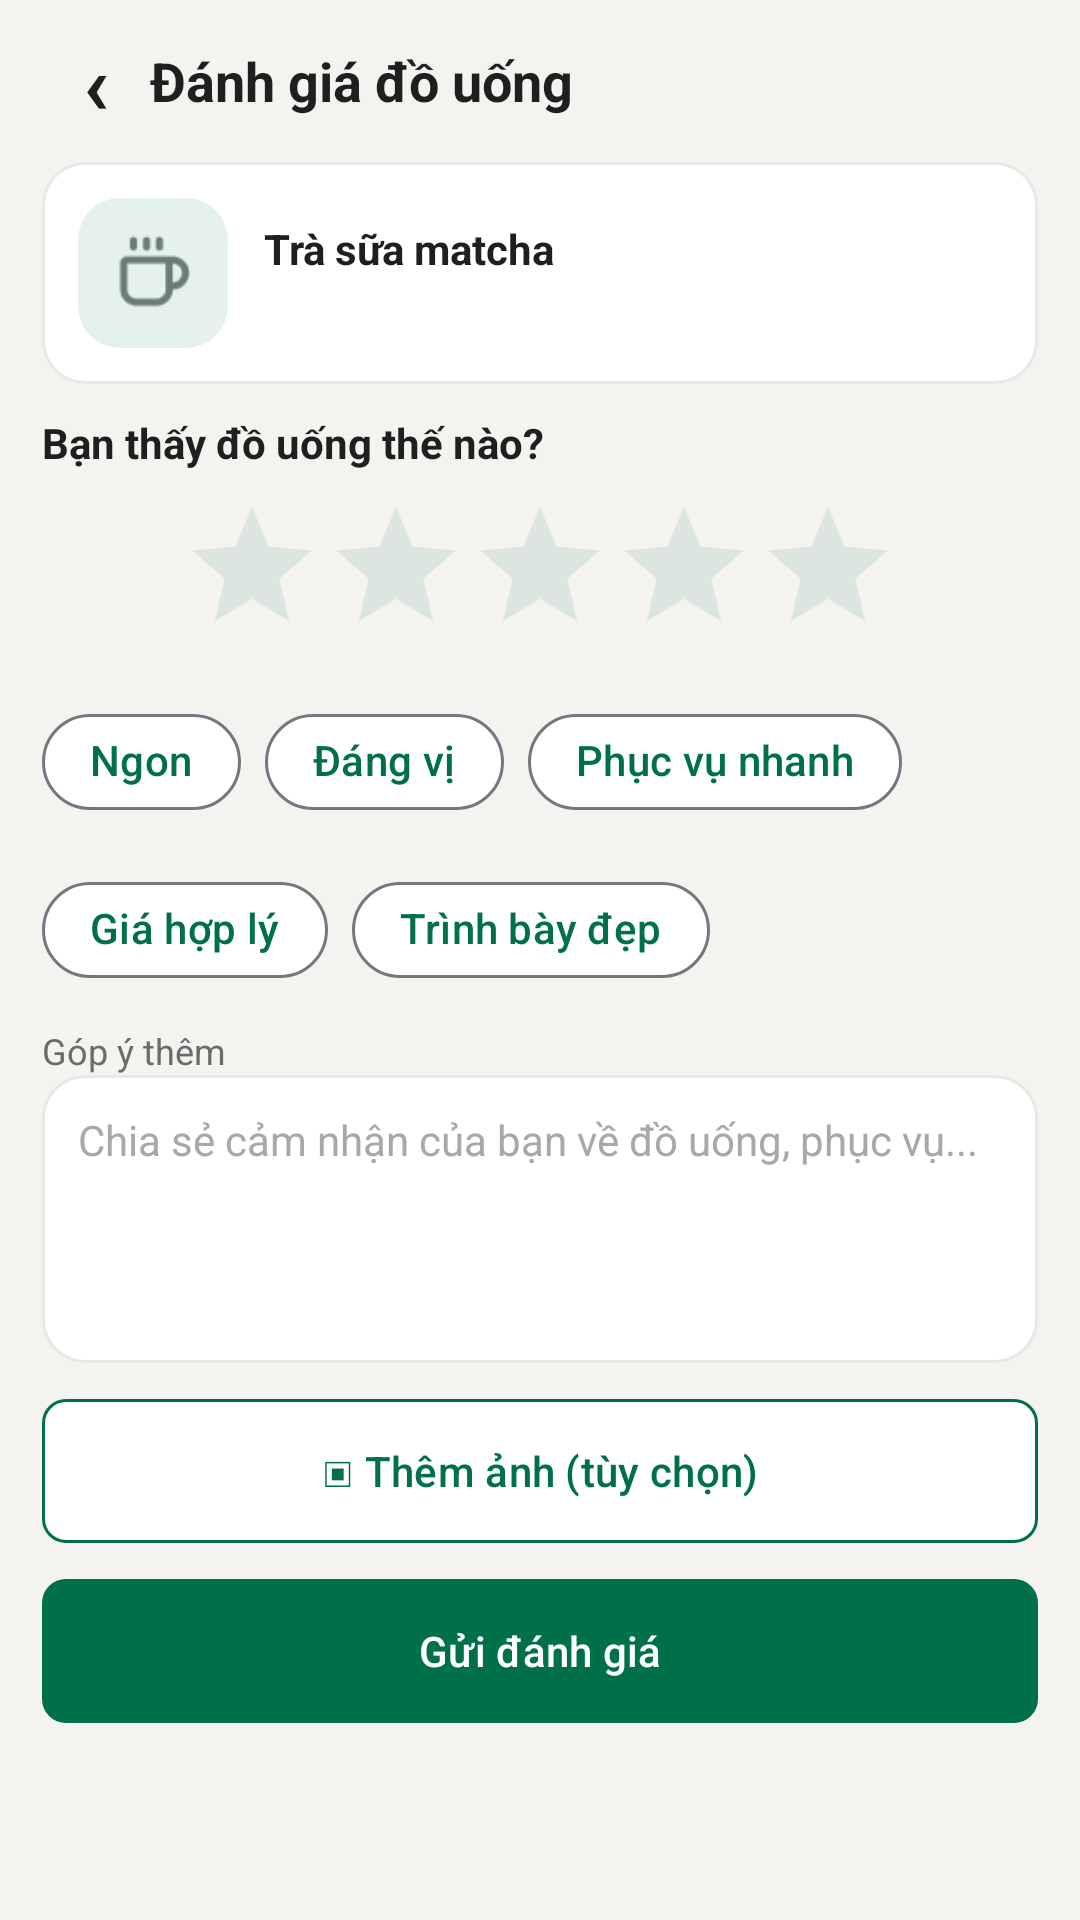

Point at icon controls on the screen. Image size 1080x1920, points as point (x, y).
Ảnh minh họa đồ uống: point (153, 273)
